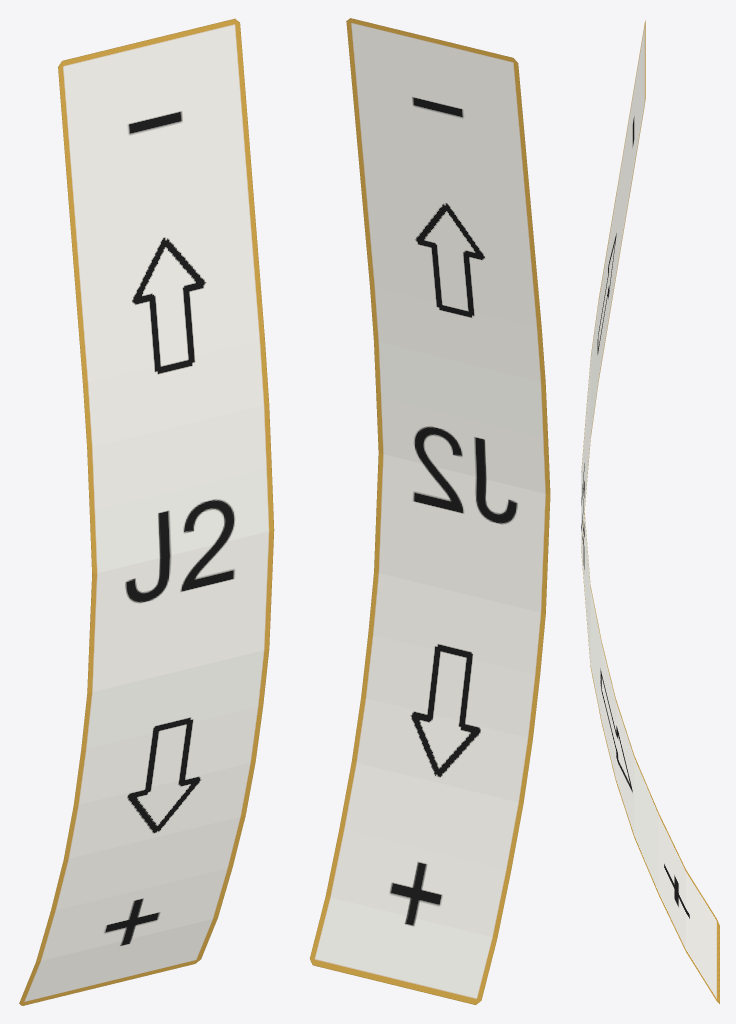
The model's file is J2_sticker_active.glb.
The picture shows the model from 3 angles, left to right: view 1: azimuth 30°, elevation 25°; view 2: azimuth 150°, elevation 25°; view 3: azimuth 270°, elevation 25°; orthographic projection. The views are drawn at different scales.
Bounding box in the file's own units: 0.012 × 0.06 × 0.00836.
1 material, 1 textured.
